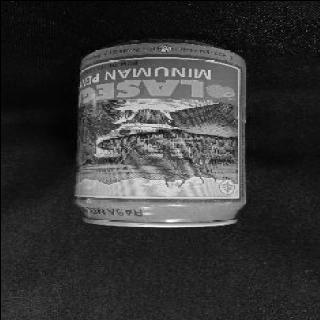alumunium_can: (72, 38, 245, 226)
